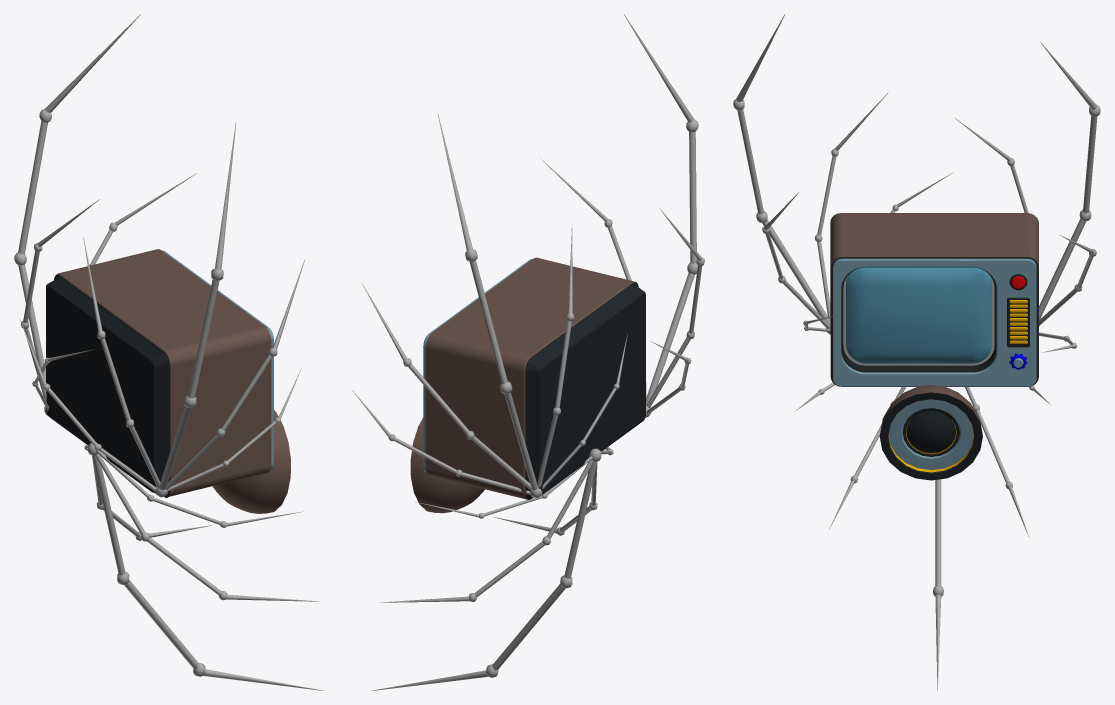
File: SM_TV_Flying.fbx
The picture shows the model from 3 angles, left to right: view 1: azimuth 30°, elevation 25°; view 2: azimuth 150°, elevation 25°; view 3: azimuth 270°, elevation 25°; orthographic projection. The views are drawn at different scales.
Parts seen in each view (by area): view 1: SM_TV_Flying; view 2: SM_TV_Flying; view 3: SM_TV_Flying.
Part boxes in pixels (x1,y1,x2,y2): SM_TV_Flying: [14, 14, 323, 690]; SM_TV_Flying: [352, 14, 704, 690]; SM_TV_Flying: [733, 14, 1100, 690].
Bounding box in the file's own units: 224 × 475 × 263.
